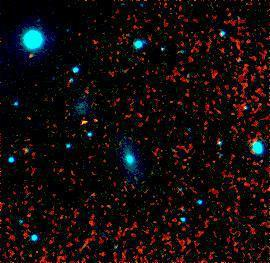star: (15, 42, 45, 72)
